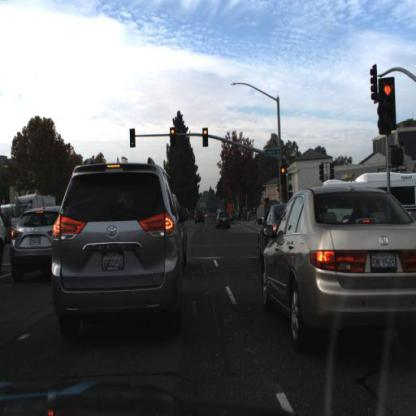car: (263, 178, 416, 360), (52, 160, 187, 333), (318, 168, 414, 211), (14, 207, 67, 279), (256, 199, 289, 267), (1, 208, 9, 287), (214, 208, 235, 234), (193, 208, 209, 226), (195, 208, 207, 227)
pedestrian: (252, 209, 258, 225)
trafficLight: (129, 126, 137, 149)
trafficLight-Red: (377, 76, 399, 141), (202, 125, 210, 149), (169, 126, 177, 147), (280, 165, 287, 185)
truck: (358, 172, 416, 218), (17, 185, 61, 216)
